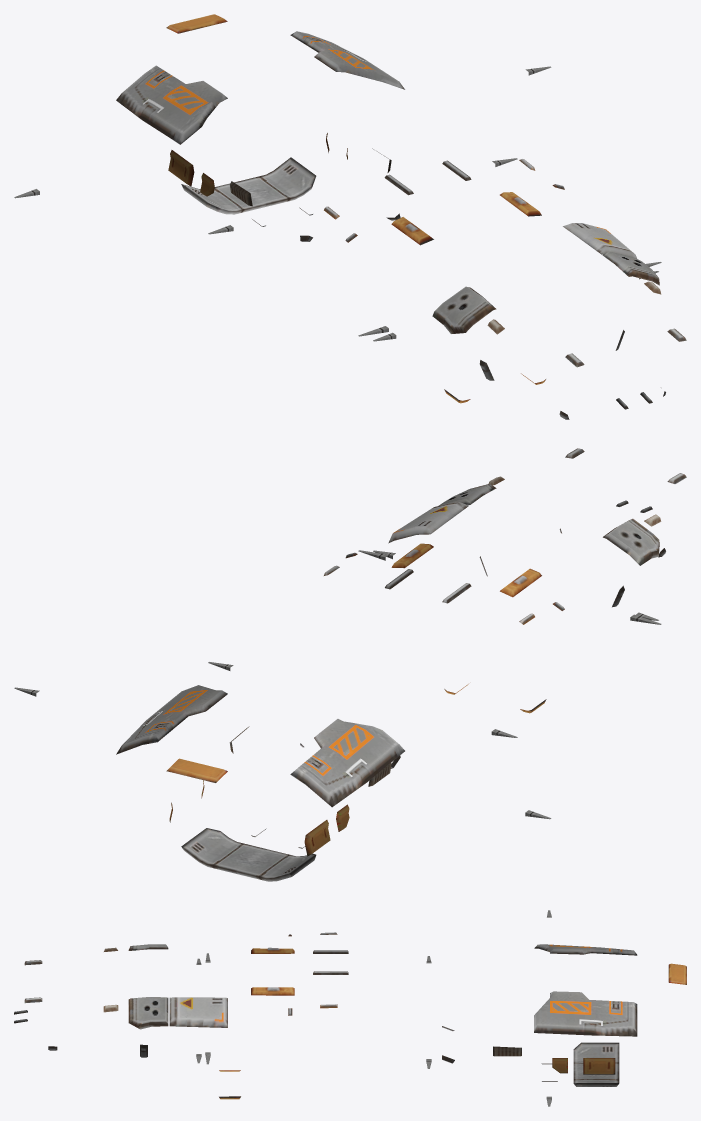
Rendered from hgn_assault_frigate_01_t3.glb.
3 views of the same model, one above another, from view 1: azimuth 30°, elevation 25°; view 2: azimuth 150°, elevation 25°; view 3: azimuth 270°, elevation 25° (orthographic). The views are drawn at different scales.
Visible parts, largest first — view 1: hgn_assault_frigate_01_t3_LOD0; view 2: hgn_assault_frigate_01_t3_LOD0; view 3: hgn_assault_frigate_01_t3_LOD0.
Boxes of the visible parts, x1,y1,x2,y2 form: hgn_assault_frigate_01_t3_LOD0: (14, 14, 686, 419); hgn_assault_frigate_01_t3_LOD0: (14, 448, 686, 881); hgn_assault_frigate_01_t3_LOD0: (14, 910, 686, 1106).
Size of what is drawn, in the model's own units: 2.12 by 0.6154 by 3.06.
Materials: 1 (1 with a texture image).
